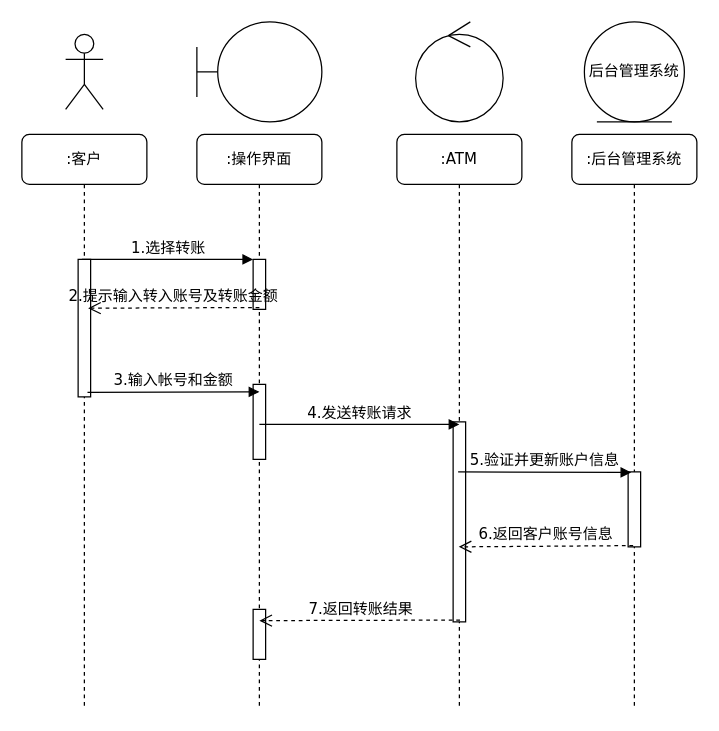
Image size: 719x731. Some labels were removed from this diagram. The shapes that lost their labels are listed below. From the top down, each one's box as (x1, y1, x2, y2) in pixels, then its label:
(64, 33, 103, 109): 客户
(196, 21, 322, 122): 操作界面
(414, 21, 503, 122): ATM
